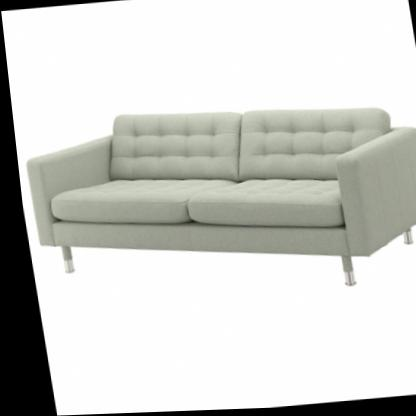Sofa: (13, 90, 416, 312)
